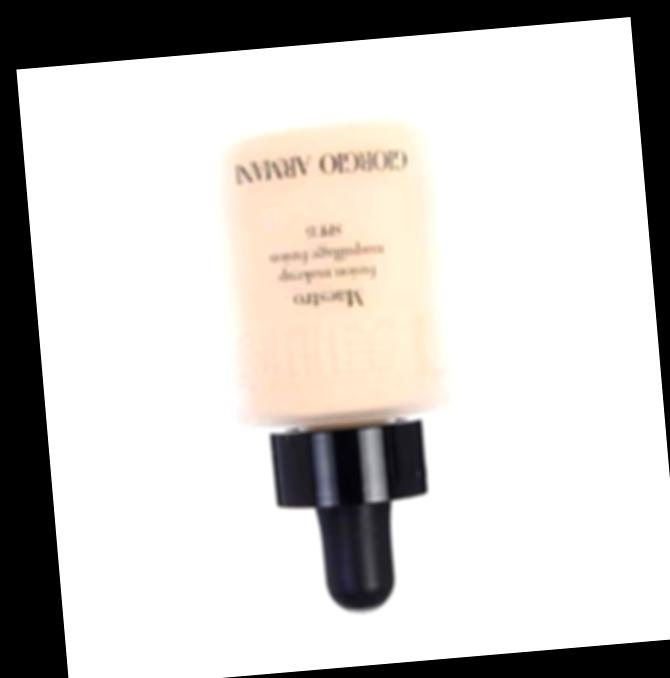cosmetic: (203, 87, 483, 623)
